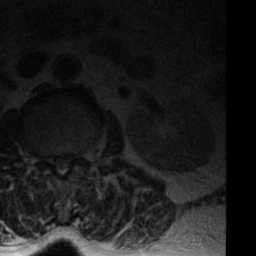CCS_stenosis: (58, 149, 66, 183)
LFS_severe_stenosis: (74, 147, 81, 167)
LLS_stenosis: (66, 149, 73, 169)
RFS_severe_stenosis: (43, 147, 51, 168)
RLS_stenosis: (51, 149, 58, 171)
